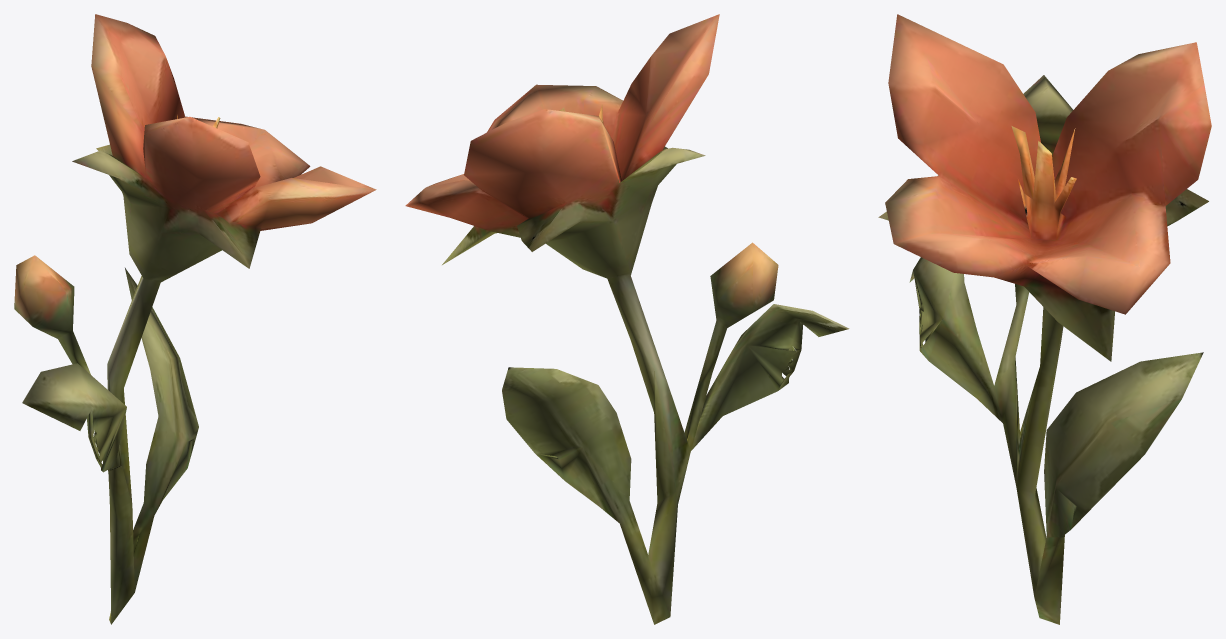
Rendered from mucha_flower_lily.glb.
3 renders of one model, left to right at view 1: azimuth 30°, elevation 25°; view 2: azimuth 150°, elevation 25°; view 3: azimuth 270°, elevation 25°, orthographic. The views are drawn at different scales.
Parts seen in each view (by area): view 1: tripo_node_b0eed812-f583-437d-9d40-5909204a0fbe.001; view 2: tripo_node_b0eed812-f583-437d-9d40-5909204a0fbe.001; view 3: tripo_node_b0eed812-f583-437d-9d40-5909204a0fbe.001.
Part boxes in pixels (x1,y1,x2,y2): tripo_node_b0eed812-f583-437d-9d40-5909204a0fbe.001: (14, 14, 376, 624); tripo_node_b0eed812-f583-437d-9d40-5909204a0fbe.001: (405, 14, 849, 624); tripo_node_b0eed812-f583-437d-9d40-5909204a0fbe.001: (878, 14, 1211, 624).
Size of the model in its own units: 0.6598 by 0.9702 by 0.4767.
1 material, 1 textured.
